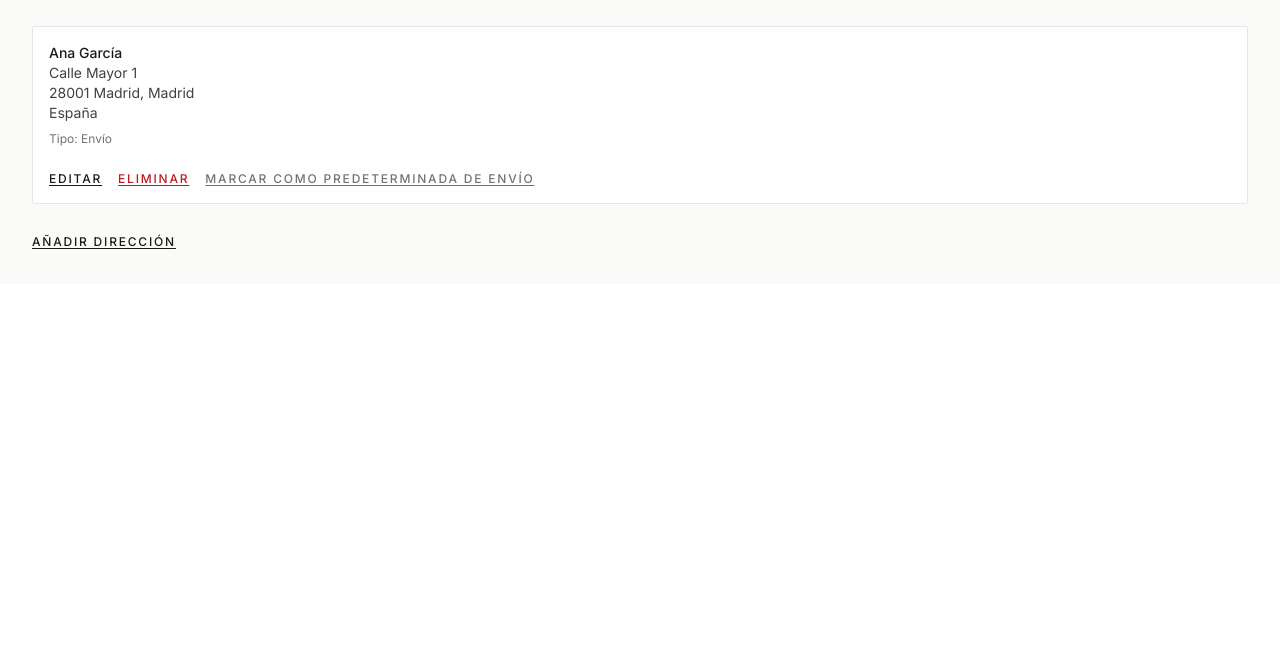
Test: AddressBook › edits an existing address via PATCH
Click the button "Editar" at (76, 179), box [49,171,102,187]
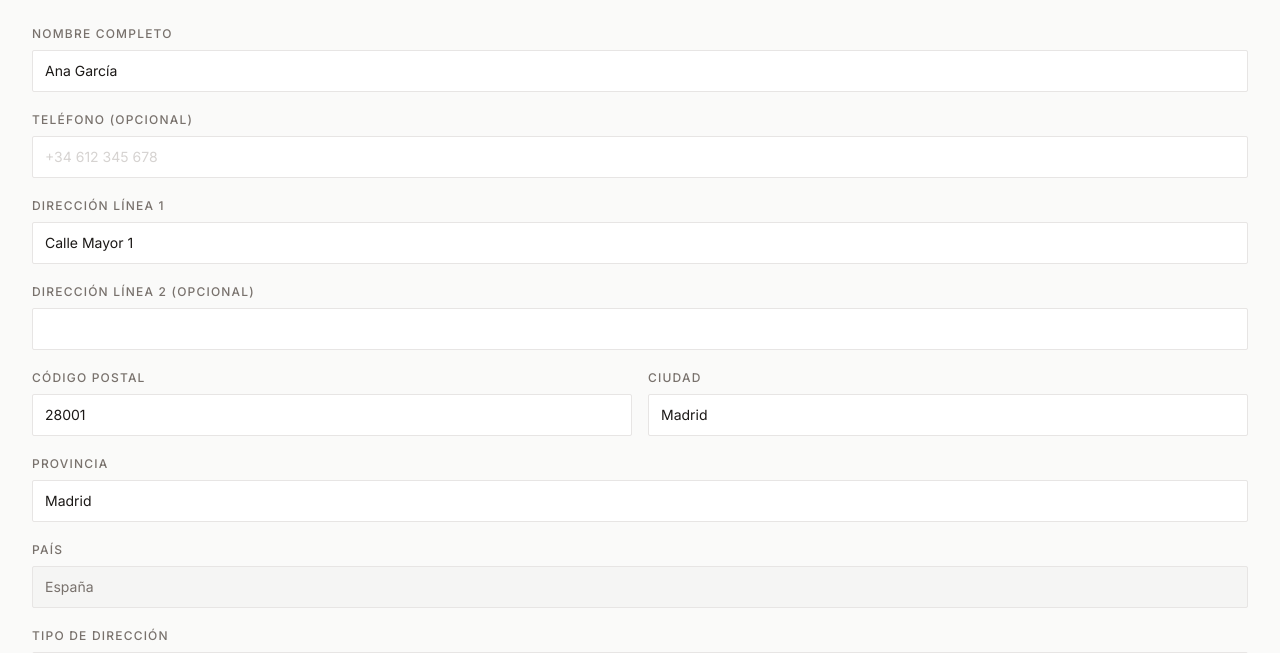
Now the field labelled "Nombre completo" holds "Ana García", box [32,50,1248,92]
Replace the text in the field labelled "Ciudad" with "Sevilla" at (948, 415), box [648,394,1248,436]
(page scrolled)
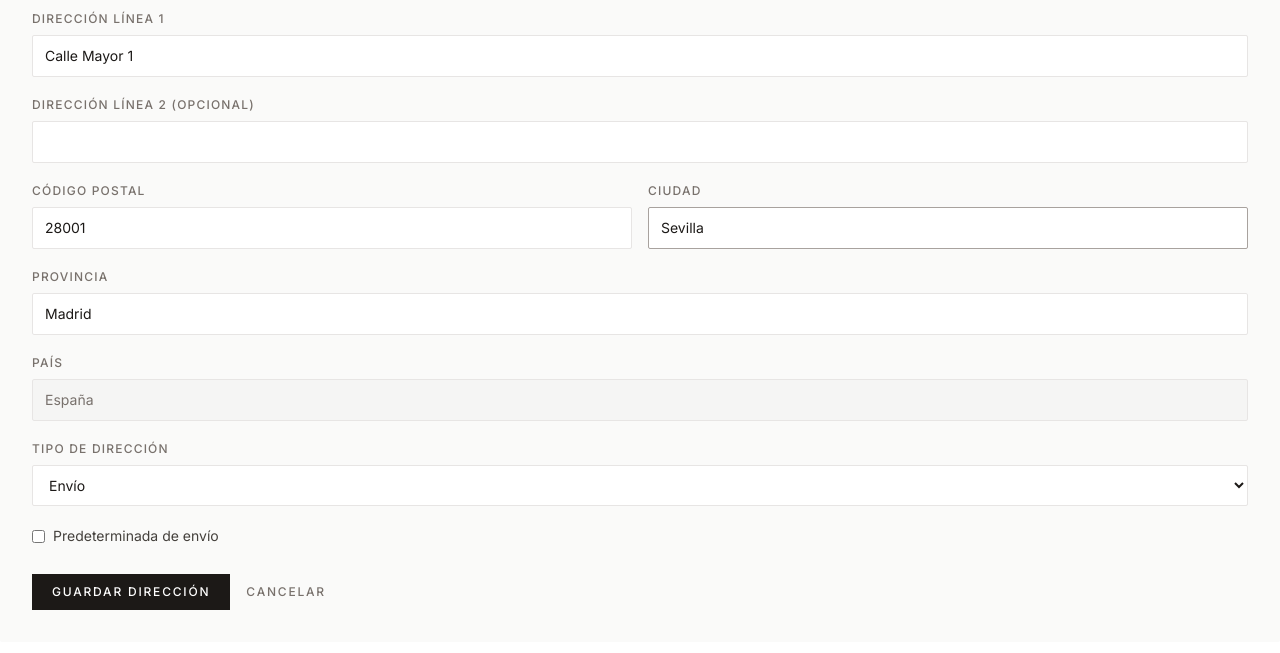
Click the button "Guardar dirección" at (131, 592), box [32,574,230,610]
(page scrolled)
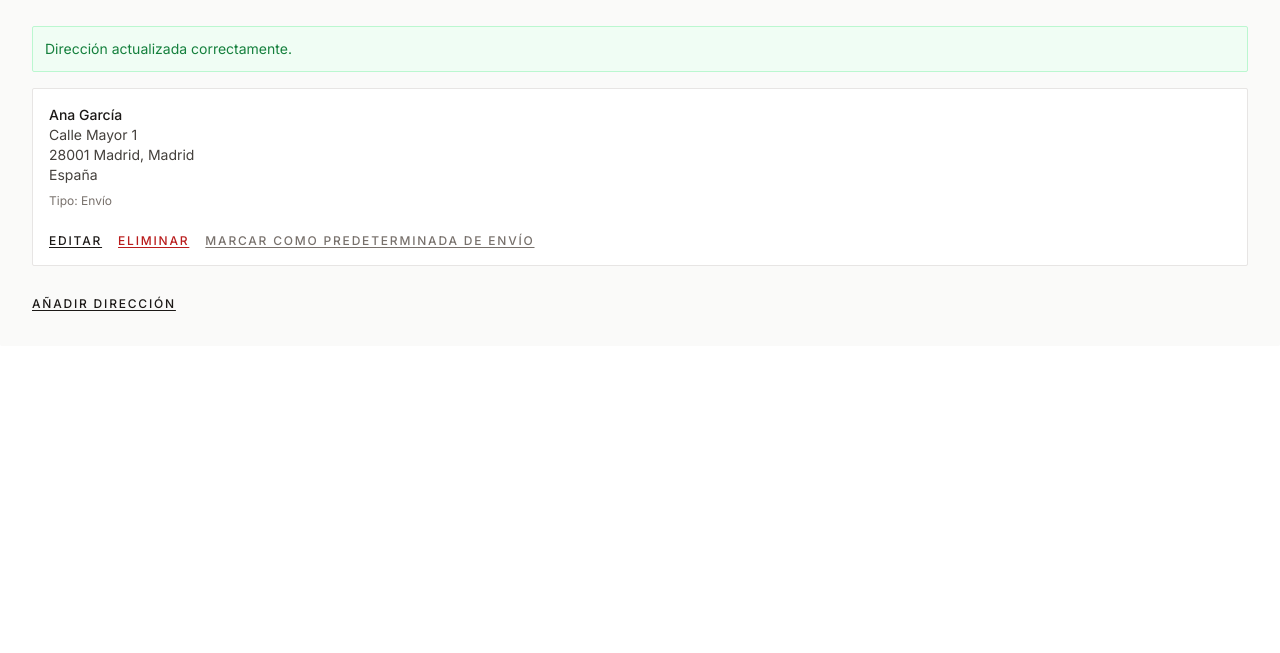
Now the text "Dirección actualizada correctamente." is shown, box [45,40,292,57]
